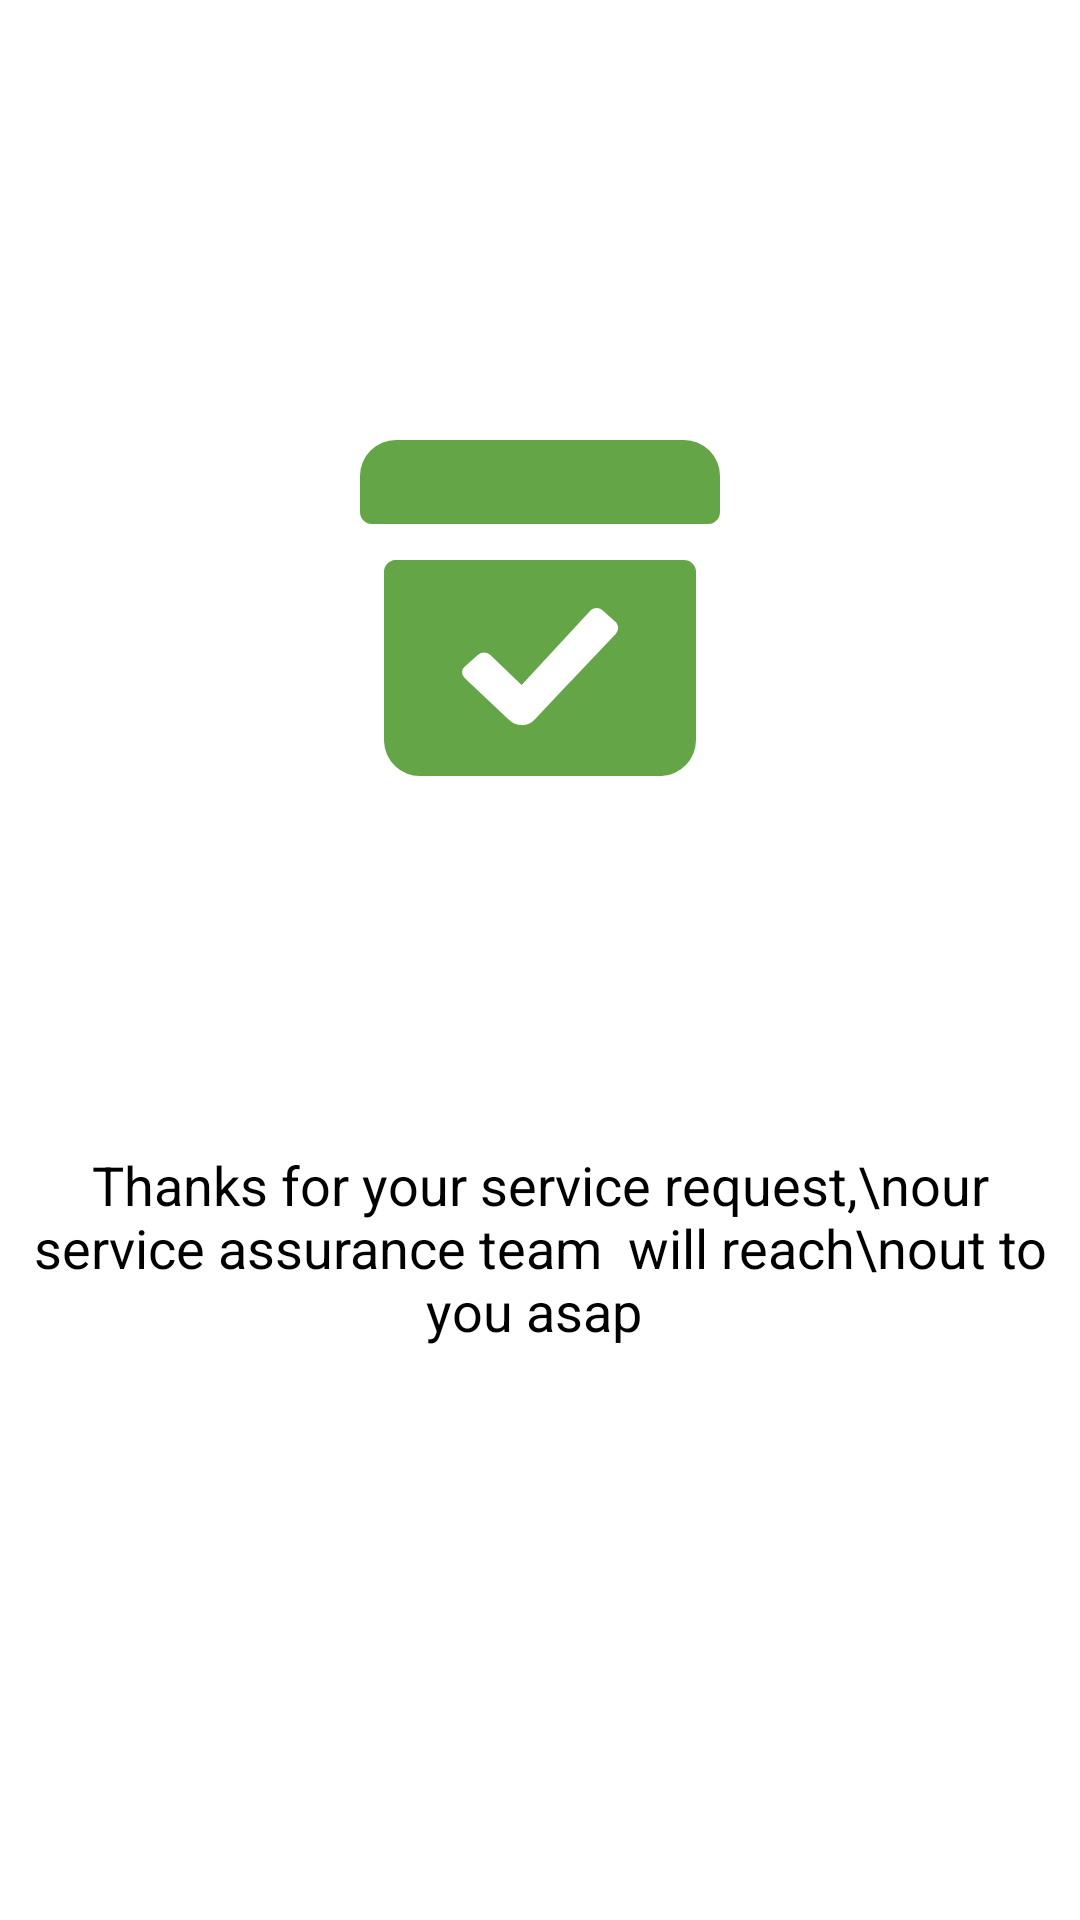

Point at icon controls on the screen. Image size 1080 × 1920, points as (x=x, y=y).
done: (x=540, y=608)
